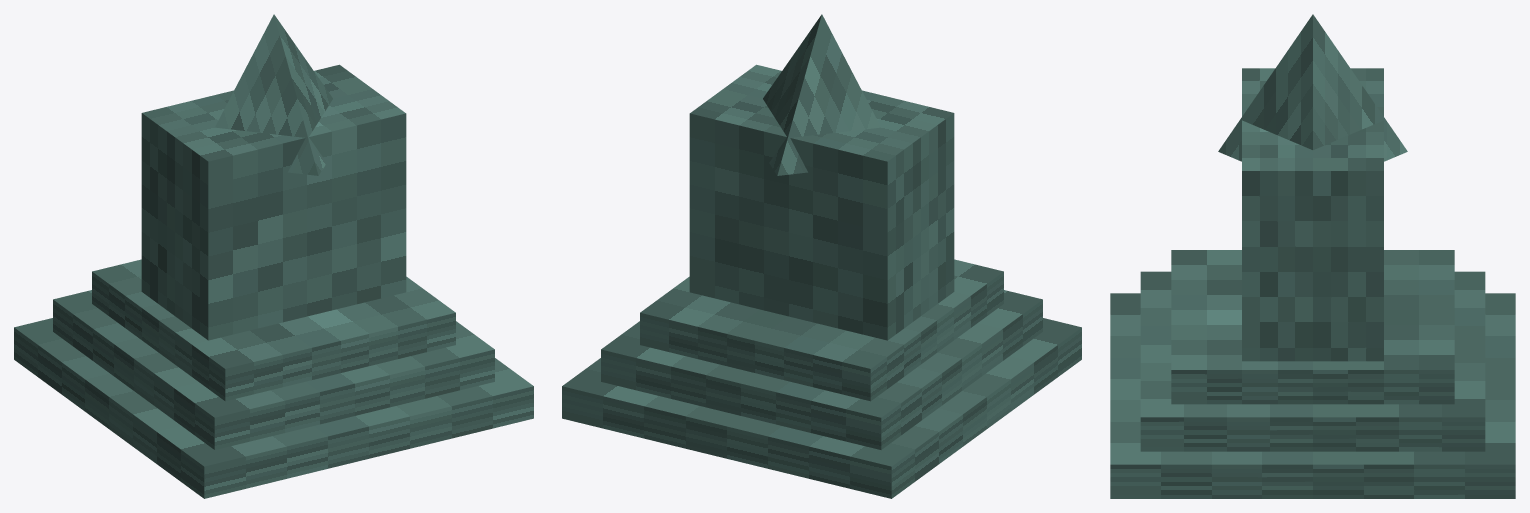
Rendered from shrine_39.glb.
The picture shows the model from 3 angles, left to right: view 1: azimuth 30°, elevation 25°; view 2: azimuth 150°, elevation 25°; view 3: azimuth 270°, elevation 25°; orthographic projection. The views are drawn at different scales.
Visible parts, largest first — view 1: Altar, Base, Base.001, Base.002, SacredSpire; view 2: Altar, Base, Base.001, Base.002, SacredSpire; view 3: Altar, Base, Base.002, Base.001, SacredSpire.
Boxes of the visible parts, x1,y1,x2,y2 form: Altar: [141, 64, 406, 340]; Base: [14, 318, 533, 498]; Base.001: [53, 290, 494, 449]; Base.002: [92, 259, 455, 401]; SacredSpire: [215, 14, 332, 175]; Altar: [689, 64, 954, 340]; Base: [562, 318, 1081, 498]; Base.001: [601, 290, 1042, 449]; Base.002: [640, 259, 1003, 401]; SacredSpire: [763, 14, 880, 175]; Altar: [1242, 68, 1383, 361]; Base: [1110, 293, 1515, 498]; Base.002: [1171, 250, 1454, 404]; Base.001: [1140, 271, 1485, 451]; SacredSpire: [1218, 14, 1407, 161].
Size of the model in its own units: 2.13 by 2.32 by 2.13.
Materials: 1 (1 with a texture image).
